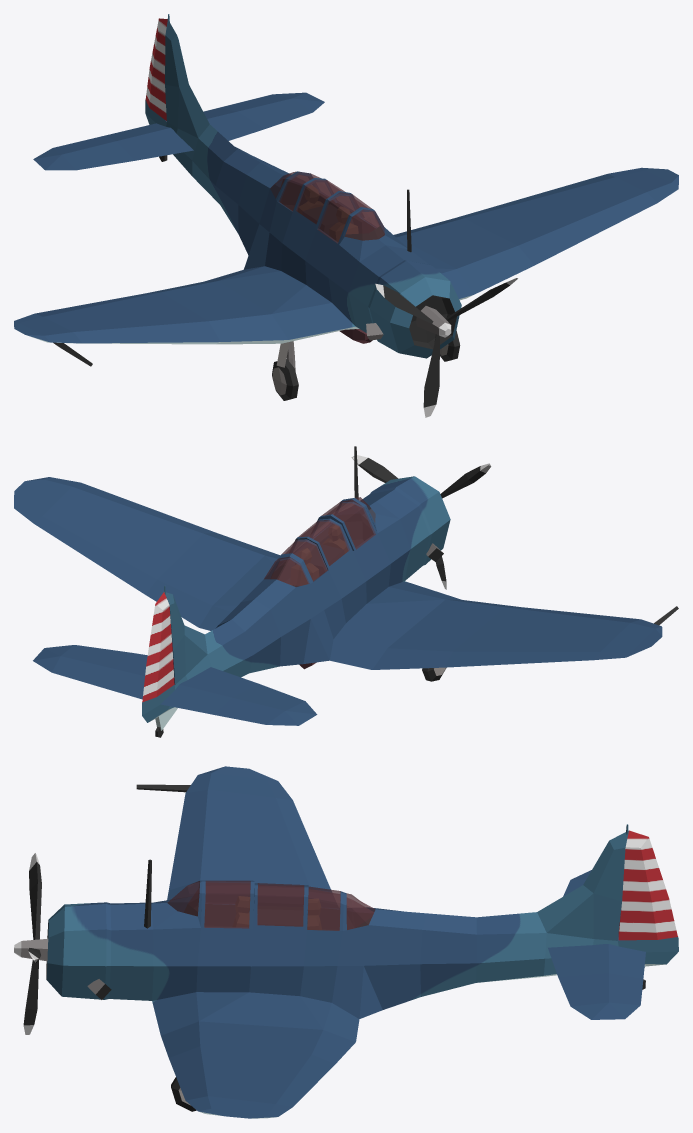
Rendered from Plane-Dauntless.fbx.
3 renders of one model, top to bottom at view 1: azimuth 30°, elevation 25°; view 2: azimuth 150°, elevation 25°; view 3: azimuth 270°, elevation 25°, orthographic. The views are drawn at different scales.
Visible parts, largest first — view 1: dauntless-body, dauntless-propeller, dauntless-cockpit_F, dauntless-cockpit_B, dauntless-pilots, dauntless-wheel_R; view 2: dauntless-body, dauntless-cockpit_F, dauntless-propeller, dauntless-cockpit_B, dauntless-pilots; view 3: dauntless-body, dauntless-cockpit_F, dauntless-propeller, dauntless-cockpit_B, dauntless-pilots.
Part boxes in pixels (<box>): dauntless-body: <box>14,14,678,366</box>; dauntless-propeller: <box>375,278,517,417</box>; dauntless-cockpit_F: <box>315,191,384,244</box>; dauntless-cockpit_B: <box>277,171,336,211</box>; dauntless-pilots: <box>298,185,358,241</box>; dauntless-wheel_R: <box>272,358,298,400</box>; dauntless-body: <box>14,446,678,730</box>; dauntless-cockpit_F: <box>313,498,377,550</box>; dauntless-propeller: <box>351,455,491,589</box>; dauntless-cockpit_B: <box>277,539,327,582</box>; dauntless-pilots: <box>290,524,347,585</box>; dauntless-body: <box>46,766,678,1118</box>; dauntless-cockpit_F: <box>201,880,254,928</box>; dauntless-propeller: <box>14,853,48,1034</box>; dauntless-cockpit_B: <box>307,886,343,930</box>; dauntless-pilots: <box>233,896,321,929</box>.
Bounding box in the file's own units: 12.53 × 4.05 × 10.06.
